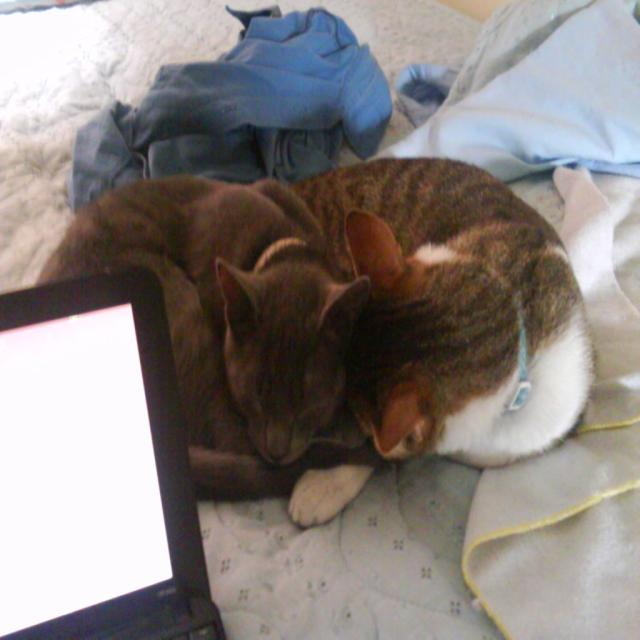Cat: (290, 154, 589, 544), (33, 171, 372, 507)
